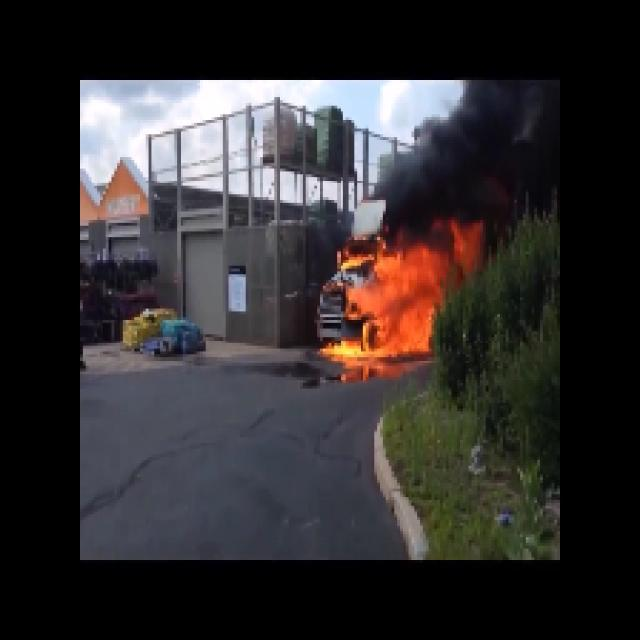fire: (351, 254, 442, 354)
smoke: (419, 134, 535, 225), (466, 82, 546, 128)
